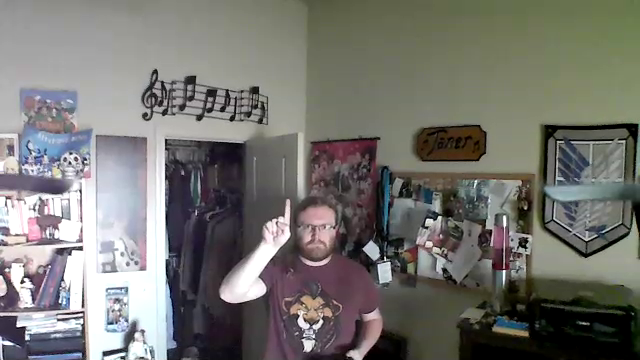up: (257, 195, 295, 246)
